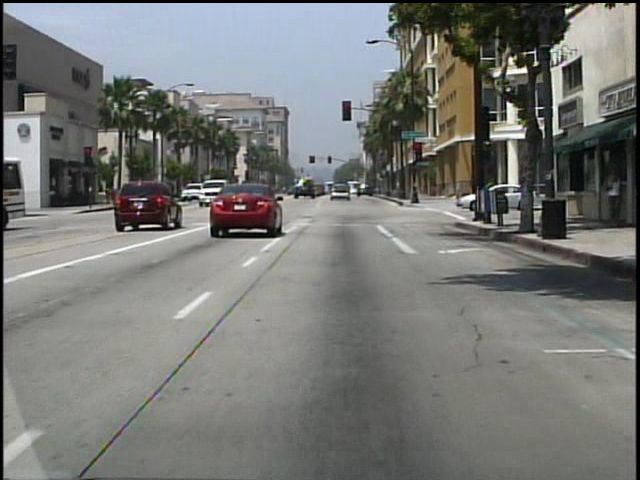person: (601, 167, 624, 228)
